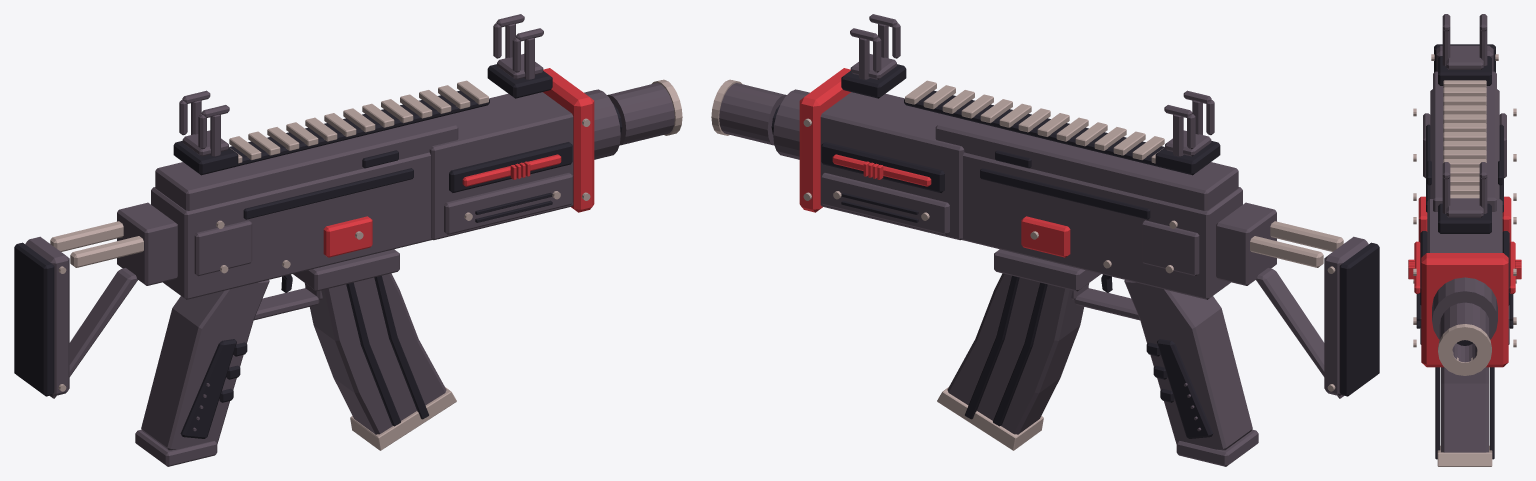
Rendered from wpn.smg.glb.
The picture shows the model from 3 angles, left to right: view 1: azimuth 30°, elevation 25°; view 2: azimuth 150°, elevation 25°; view 3: azimuth 270°, elevation 25°; orthographic projection. The views are drawn at different scales.
Parts seen in each view (by area): view 1: body, magazine; view 2: body, magazine; view 3: body, magazine.
Boxes of the visible parts, box(x1,y1,x2,y2) form: body: box(14, 14, 682, 466); magazine: box(304, 273, 456, 450); body: box(711, 14, 1379, 466); magazine: box(937, 273, 1089, 450); body: box(1408, 14, 1521, 375); magazine: box(1435, 367, 1494, 466).
Bounding box in the file's own units: 0.8425 × 0.4771 × 0.134.
